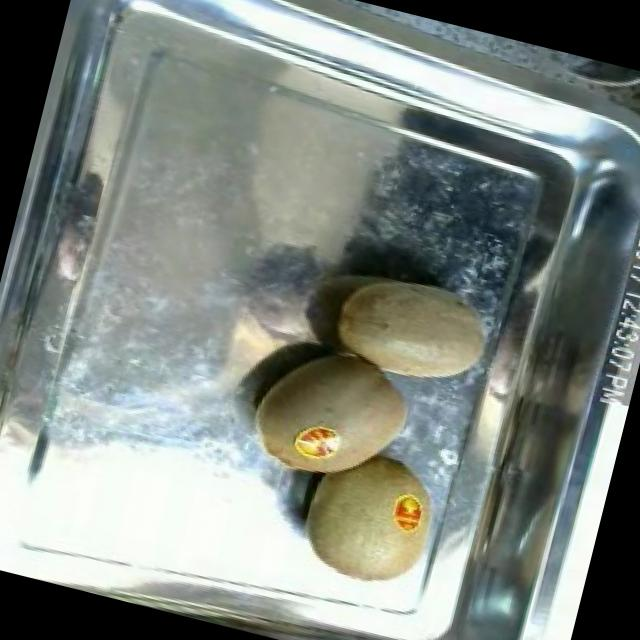Fruit: (234, 326, 431, 504), (283, 429, 456, 605), (318, 252, 508, 400)
